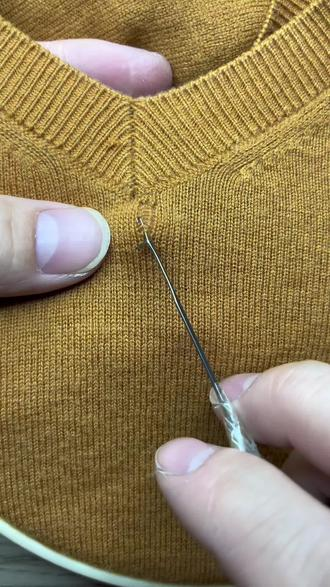missing_stitch_1: (135, 200, 158, 249)
